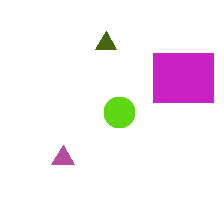circle: (104, 97, 134, 127)
rectangle: (153, 53, 213, 102)
triangle: (51, 145, 74, 164), (95, 31, 116, 49)
